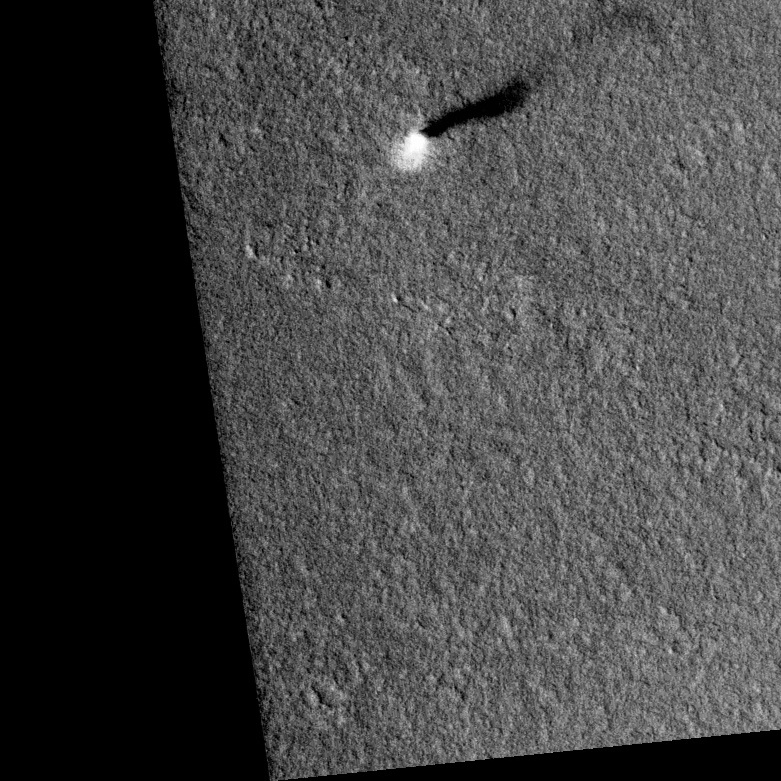dust_devil: (393, 73, 532, 172)
